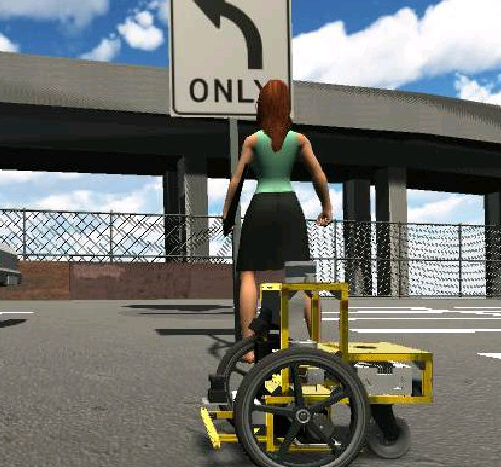arrow_left: (186, 1, 274, 69)
